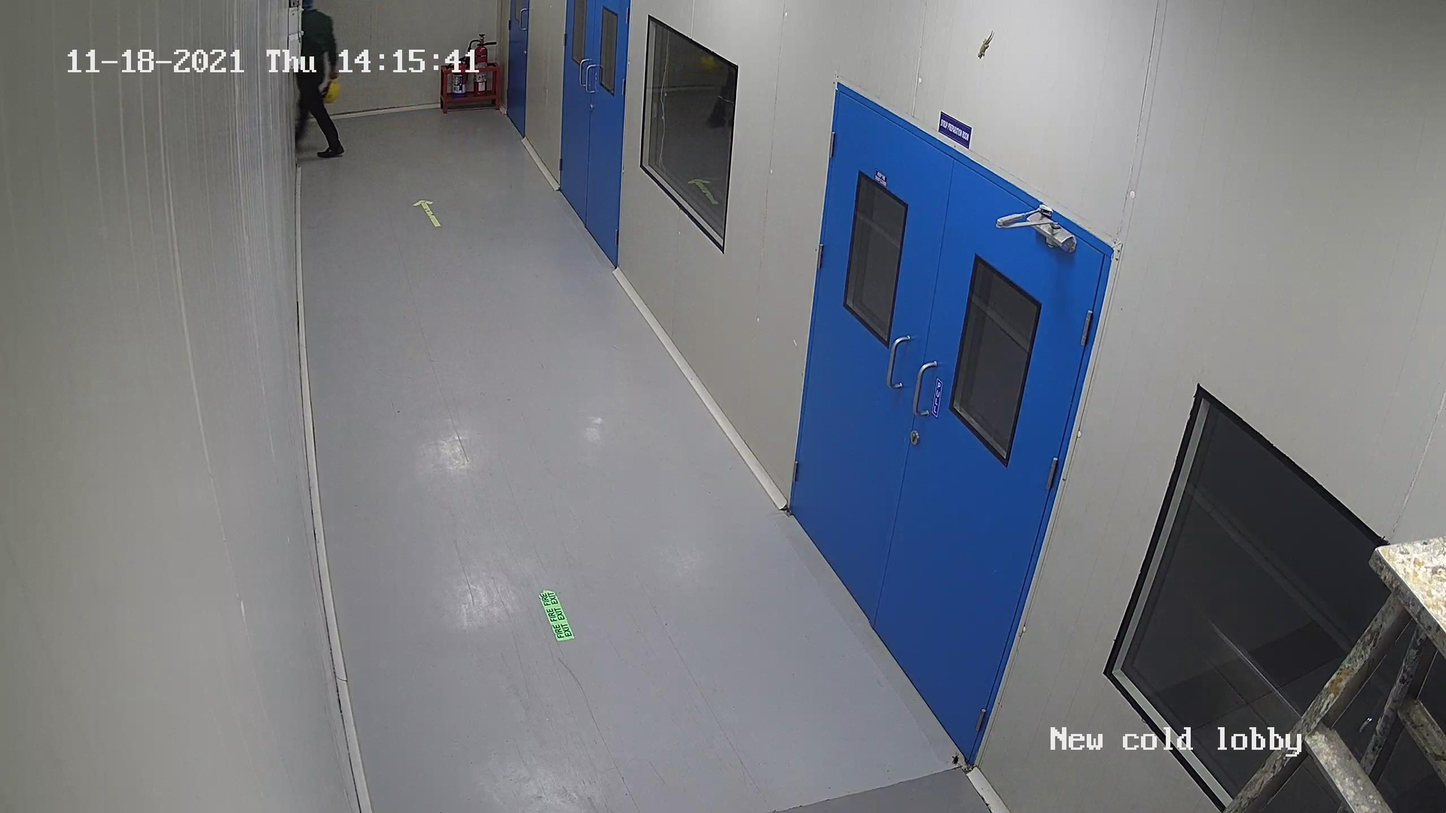cockroach: (976, 27, 994, 60), (951, 750, 961, 767)
